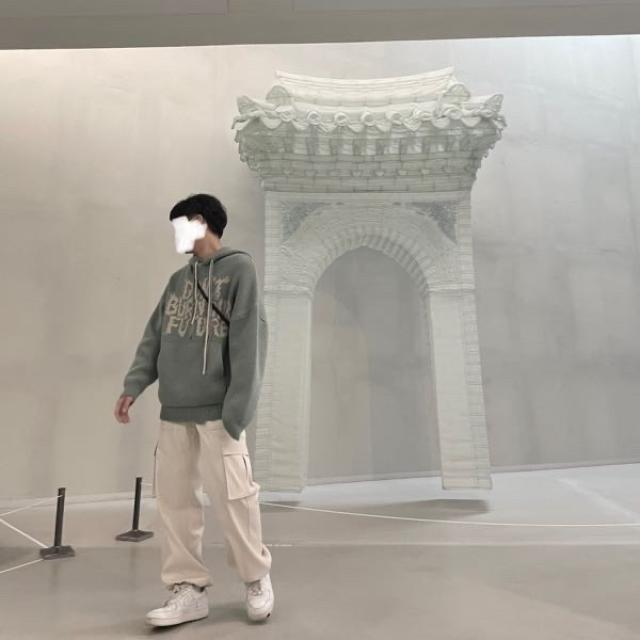cottonpants: (156, 422, 277, 592)
hoodies: (126, 243, 268, 438)
